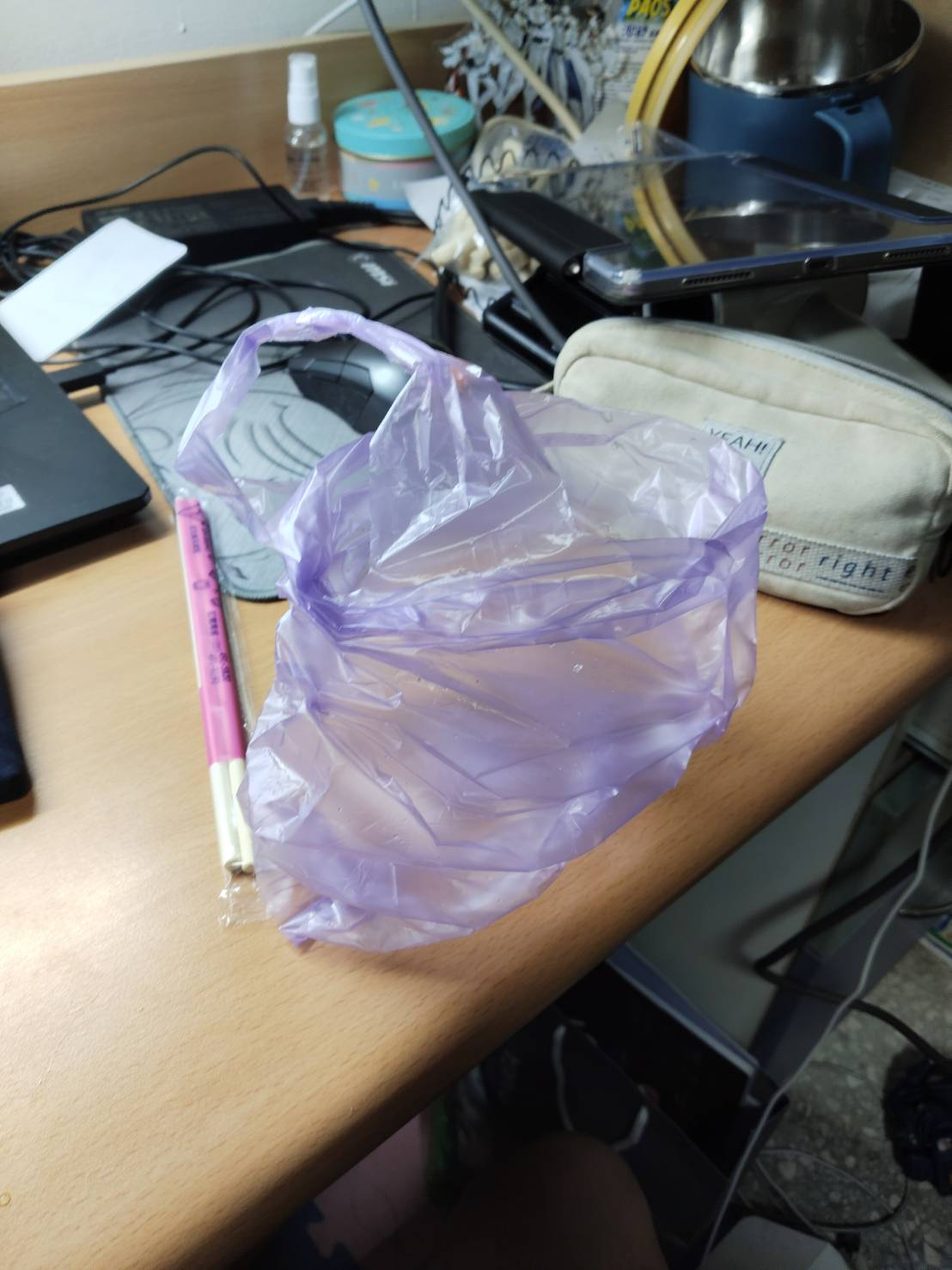General waste: (155, 482, 289, 937)
plastic: (172, 310, 805, 986)
